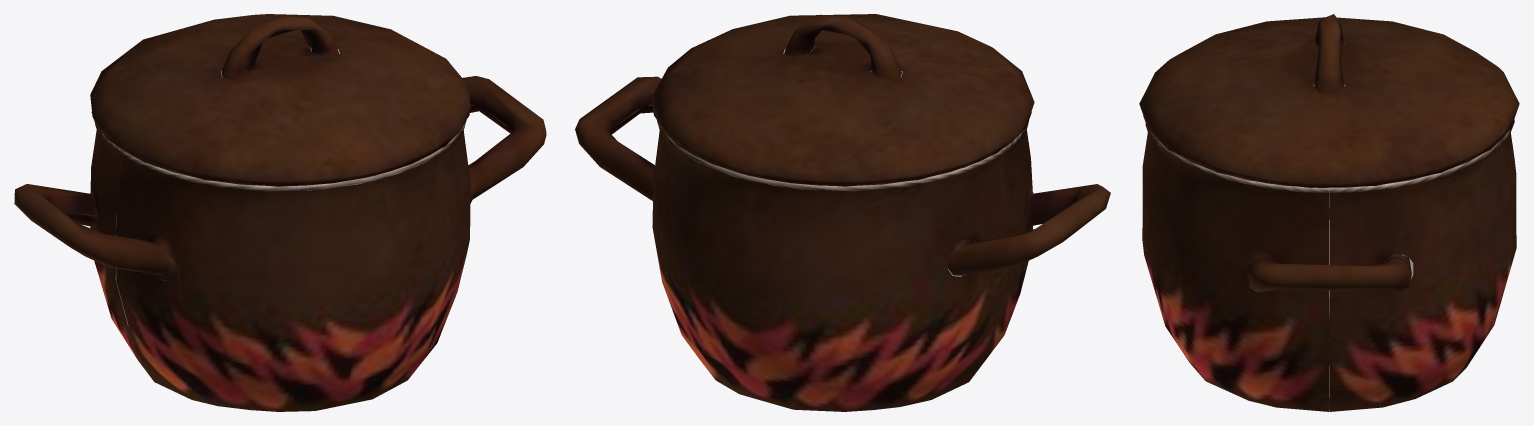
Rendered from pot_enamel_01.glb.
The picture shows the model from 3 angles, left to right: view 1: azimuth 30°, elevation 25°; view 2: azimuth 150°, elevation 25°; view 3: azimuth 270°, elevation 25°; orthographic projection.
Visible parts, largest first — view 1: pot_enamel_01_base, pot_enamel_01_lid; view 2: pot_enamel_01_base, pot_enamel_01_lid; view 3: pot_enamel_01_base, pot_enamel_01_lid.
Boxes of the visible parts, <box> form: pot_enamel_01_base: <box>14,76,546,411</box>; pot_enamel_01_lid: <box>90,14,470,186</box>; pot_enamel_01_base: <box>575,76,1110,411</box>; pot_enamel_01_lid: <box>651,14,1034,186</box>; pot_enamel_01_base: <box>1142,119,1516,411</box>; pot_enamel_01_lid: <box>1139,14,1519,187</box>.
Size of the model in its own units: 0.2631 by 0.1785 by 0.1823.
Materials: 1 (1 with a texture image).
